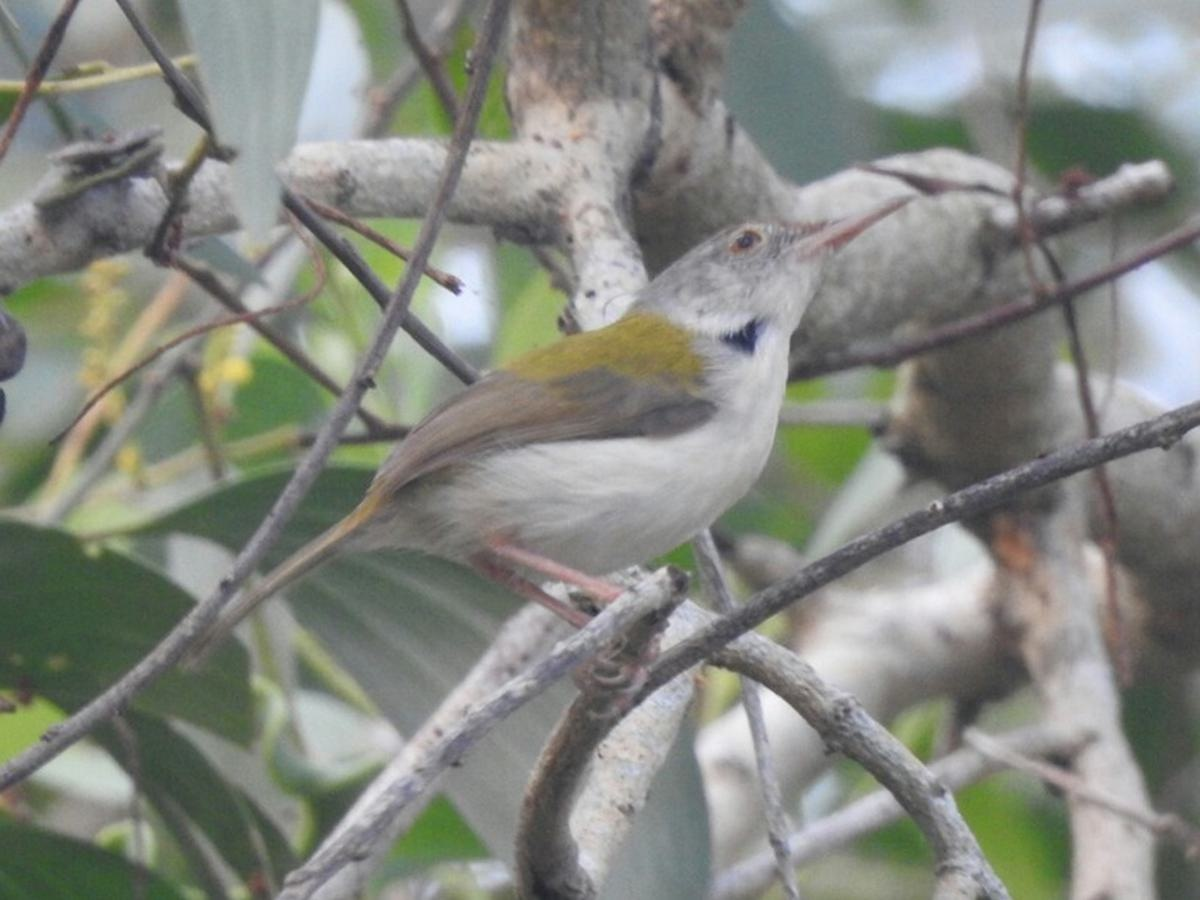tailorbird: (341, 160, 938, 668)
